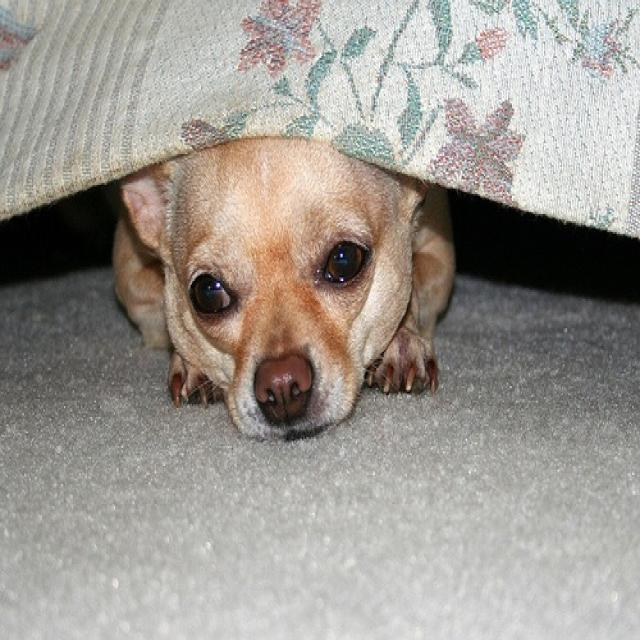dog: (102, 94, 478, 448)
